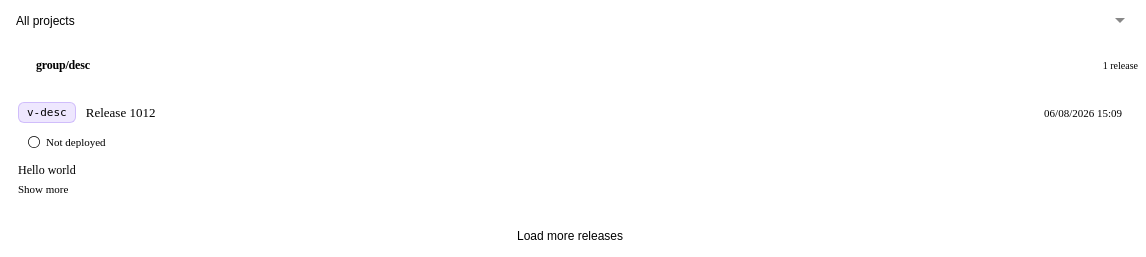
Test: POView › description expand/collapse › toggles "Show more"/"Show less" without opening the release
Expected: the text "v-desc" is shown, left=18, top=102, right=76, bottom=123
Click the text "Show more": click(43, 189) left=18, top=183, right=68, bottom=195
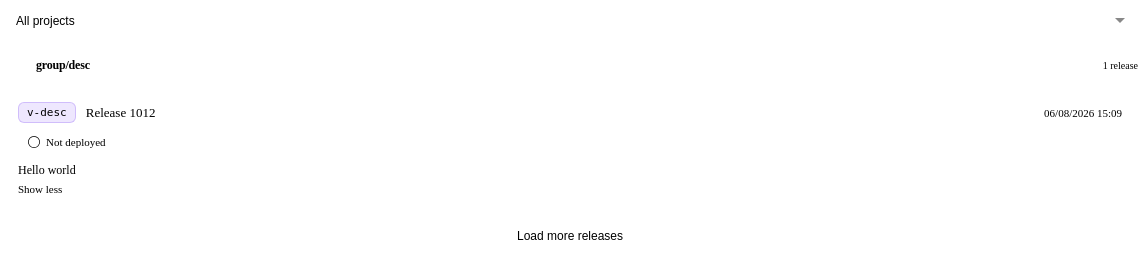
Result: the text "Show less" is shown
Click the text "Show less": click(40, 189) left=18, top=183, right=62, bottom=195
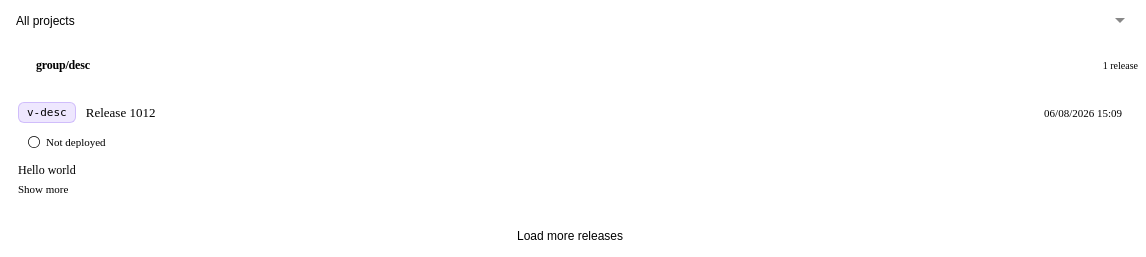
Result: the text "Show more" is shown at left=18, top=183, right=68, bottom=195
